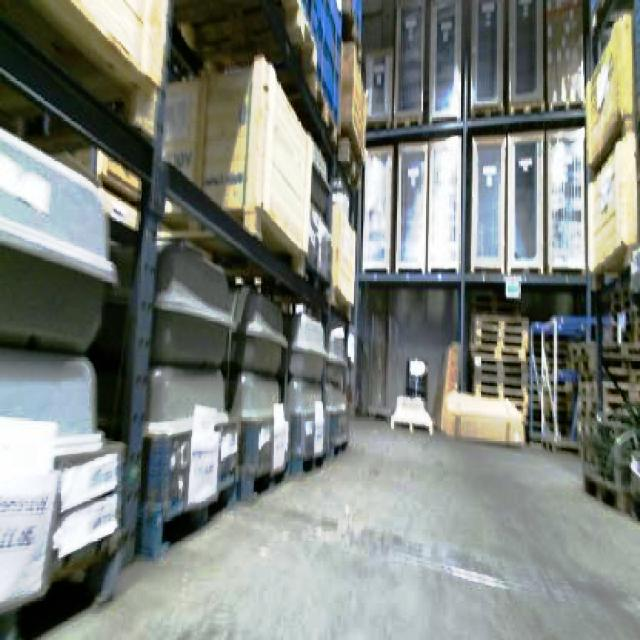ground: (0, 412, 638, 638)
pallet: (466, 306, 638, 452), (434, 340, 526, 448), (468, 308, 529, 426)
